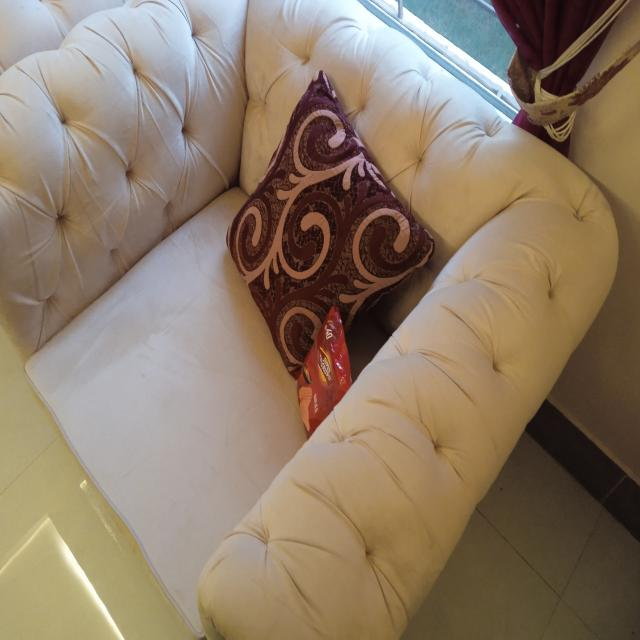Plastic: (296, 302, 354, 432)
